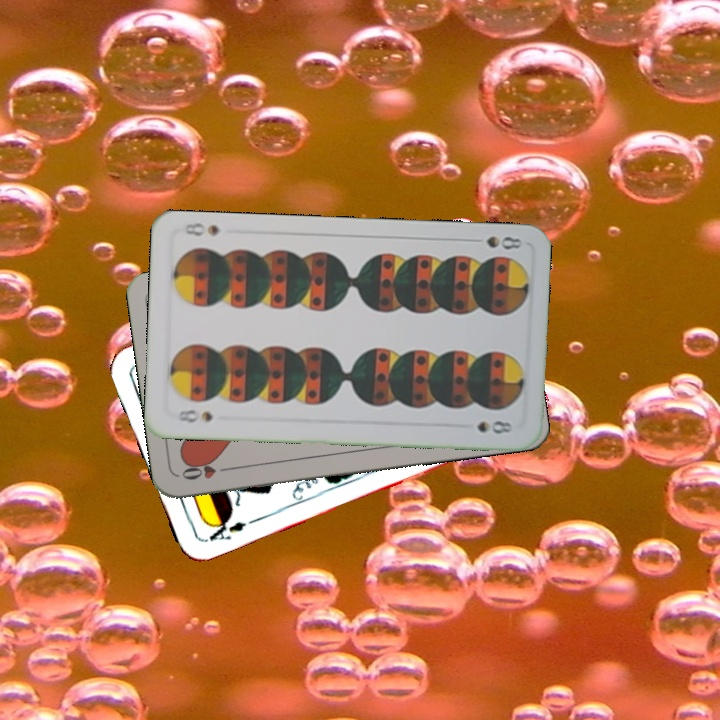EA: (202, 513, 249, 545)
HO: (177, 458, 235, 483)
S8: (466, 232, 525, 252), (172, 405, 215, 425)
